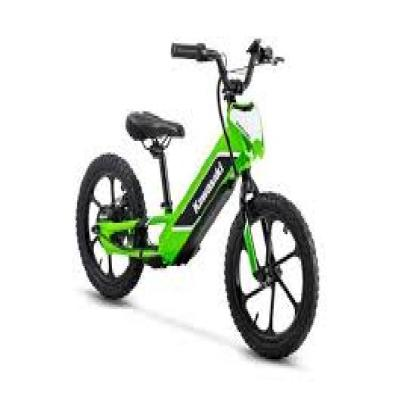Bike: (70, 26, 323, 369)
